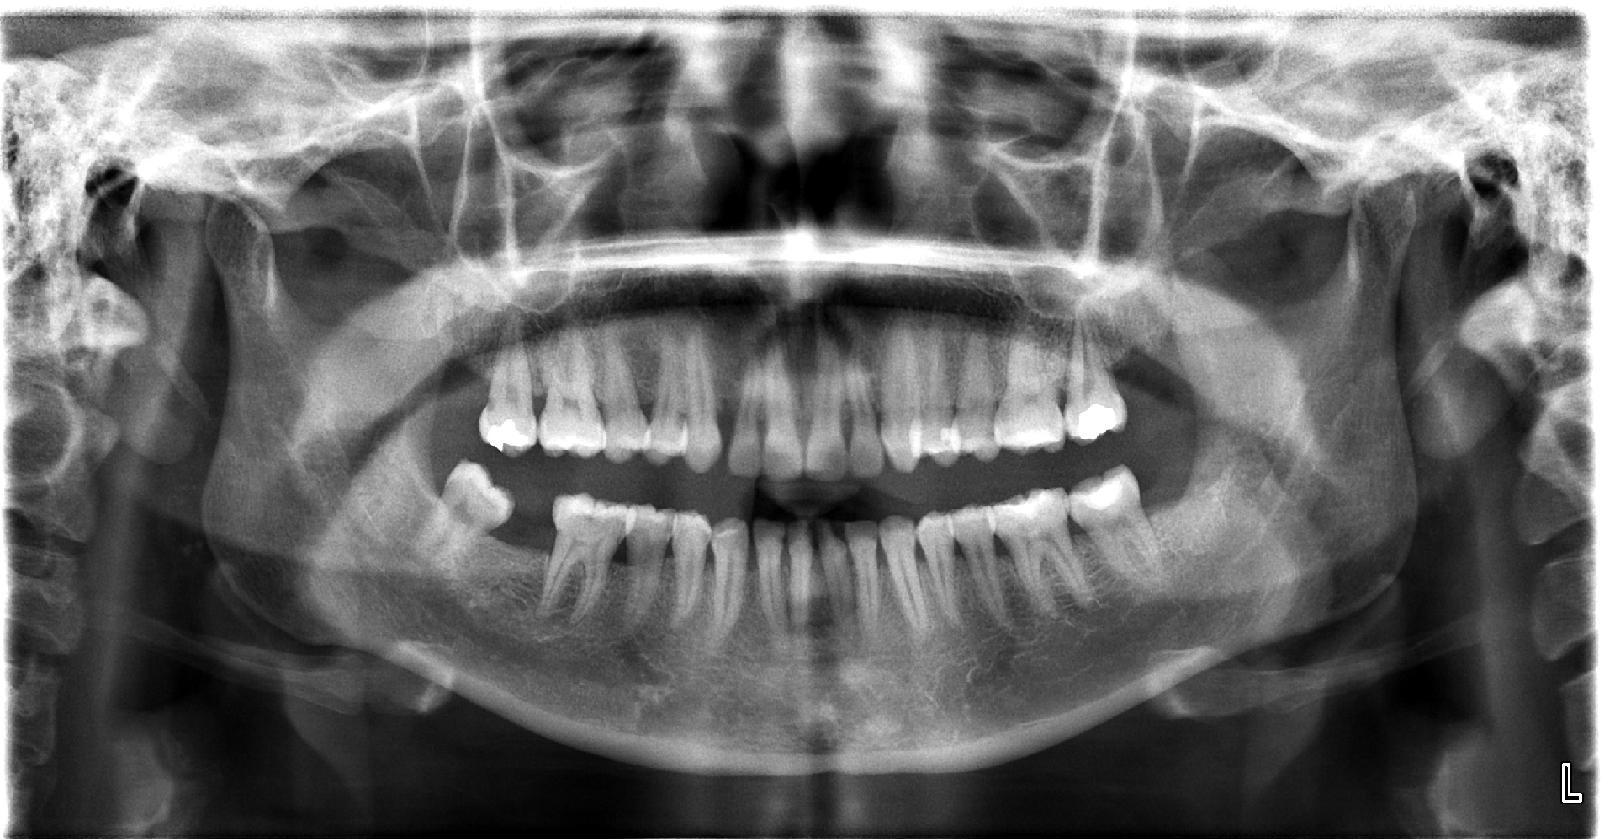Erupted: (404, 458, 521, 594)
